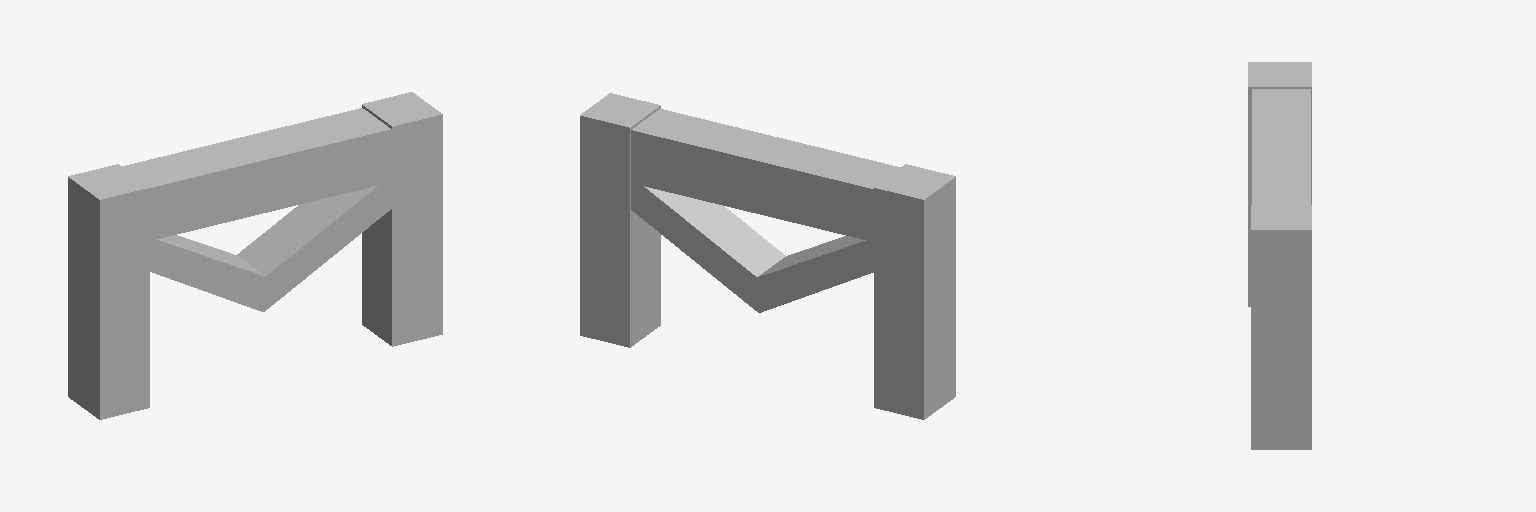
File: Platform7.obj
3 views of the same model, side by side, from view 1: azimuth 30°, elevation 25°; view 2: azimuth 150°, elevation 25°; view 3: azimuth 270°, elevation 25° (orthographic).
Parts seen in each view (by area): view 1: polySurface19; view 2: polySurface19; view 3: polySurface19.
Part boxes in pixels (x1,y1,x2,y2): polySurface19: (68, 92, 442, 419); polySurface19: (580, 93, 955, 419); polySurface19: (1248, 62, 1311, 449).
Bounding box in the file's own units: 6.8 × 4.16 × 1.1.